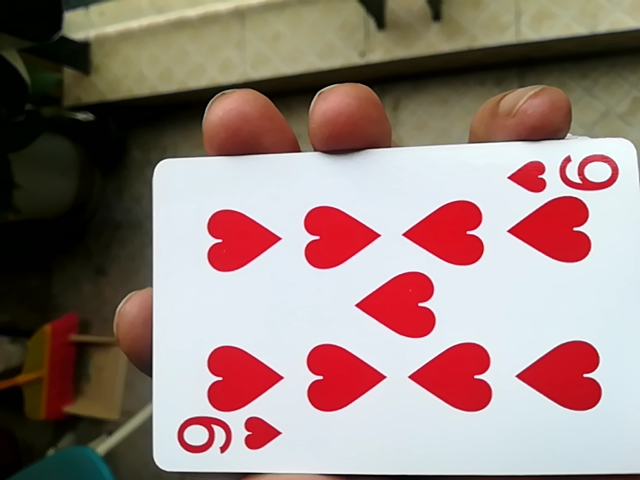hx 9: (139, 143, 633, 480)
